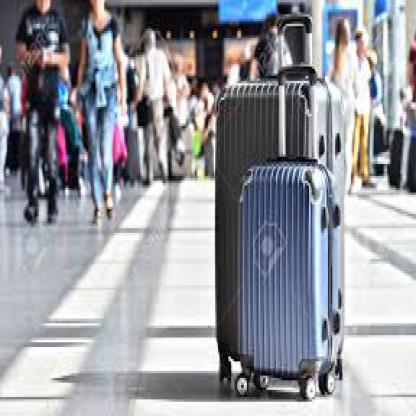maleta: (202, 64, 350, 407), (235, 150, 356, 414)
